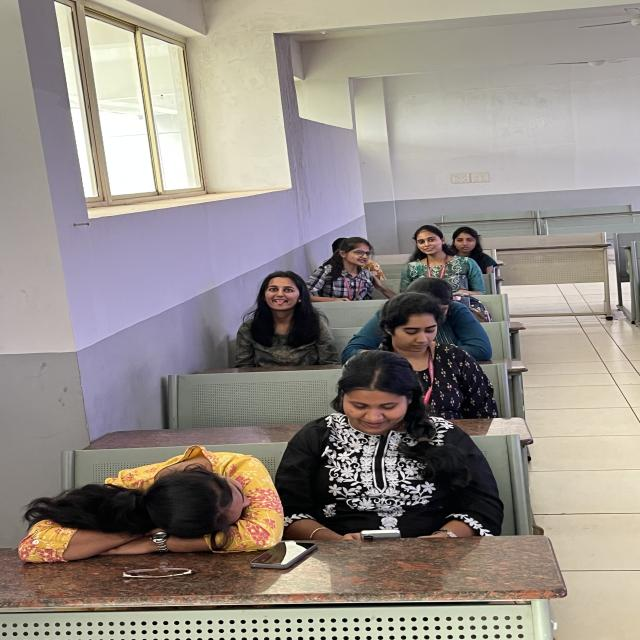Sleeping: (0, 382, 277, 570)
Using Phone: (258, 343, 482, 571), (389, 293, 532, 426)
